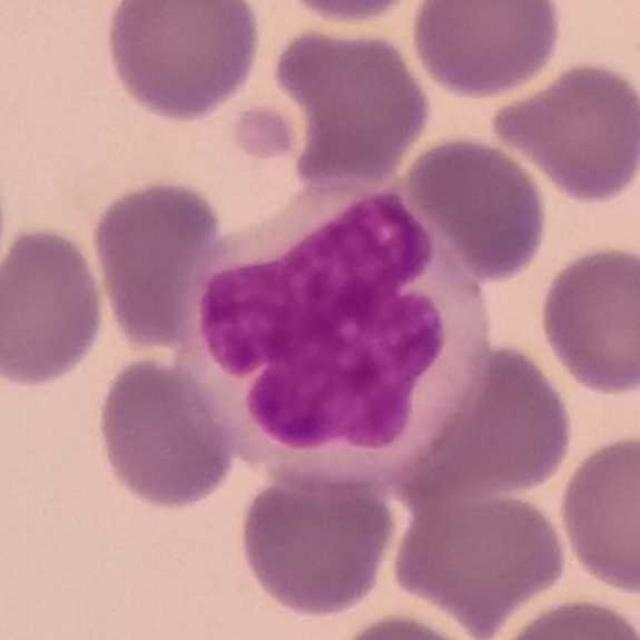mono: (177, 171, 497, 495)
